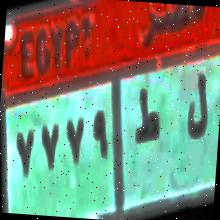7: (37, 119, 61, 178), (13, 124, 37, 182), (64, 111, 86, 170)
9: (90, 102, 112, 164)
Taa: (131, 88, 164, 152)
laam: (184, 70, 212, 146)
